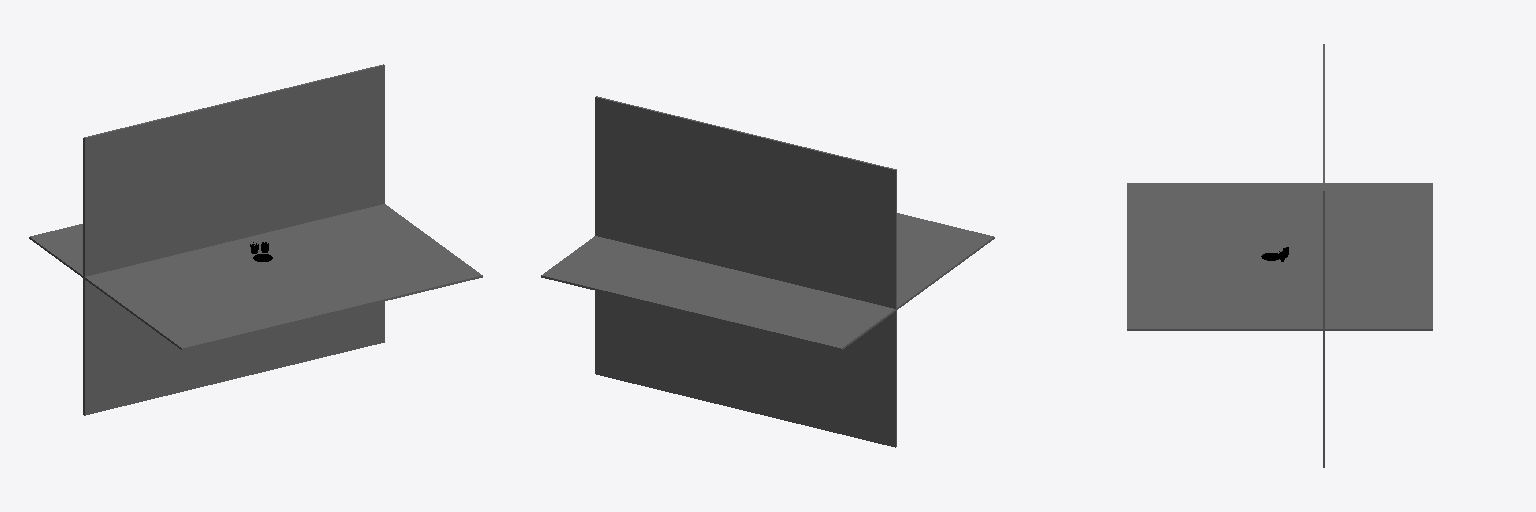
3 views of the same model, side by side, from view 1: azimuth 30°, elevation 25°; view 2: azimuth 150°, elevation 25°; view 3: azimuth 270°, elevation 25° (orthographic).
Visible parts, largest first — view 1: Box002, Box001; view 2: Box002, Box001; view 3: Box001, Box002.
Part boxes in pixels (left/top/right/bottom): Box002: left=83, top=64, right=384, bottom=415; Box001: left=29, top=204, right=482, bottom=350; Box002: left=595, top=96, right=896, bottom=447; Box001: left=541, top=213, right=994, bottom=350; Box001: left=1127, top=183, right=1432, bottom=330; Box002: left=1323, top=44, right=1324, bottom=467.
Bounding box in the file's own units: 8448 × 7456 × 7456.